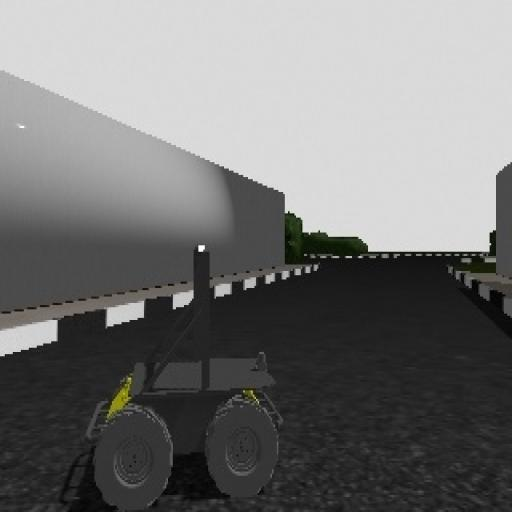huskya200: (76, 234, 288, 506)
